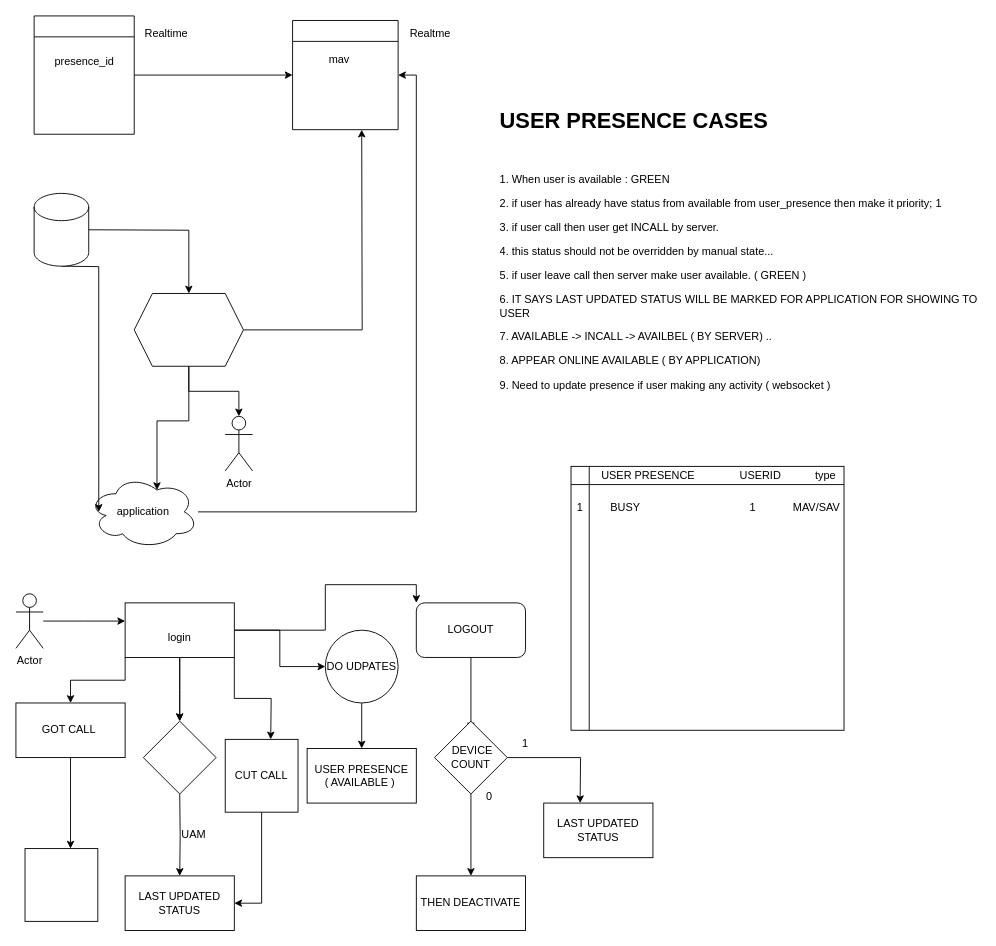
The diagram is 996 pixels wide and 946 high, and some of its shapes have lost their labels. Here are the shapes that lost their labels. From the top down, the box of each, then its label:
(33, 15, 134, 134): user
(292, 20, 398, 130): user_presence
(33, 192, 89, 266): redis
(133, 293, 243, 366): server
(142, 720, 216, 794): UAM/SAM
(24, 848, 98, 921): make status INCALL
